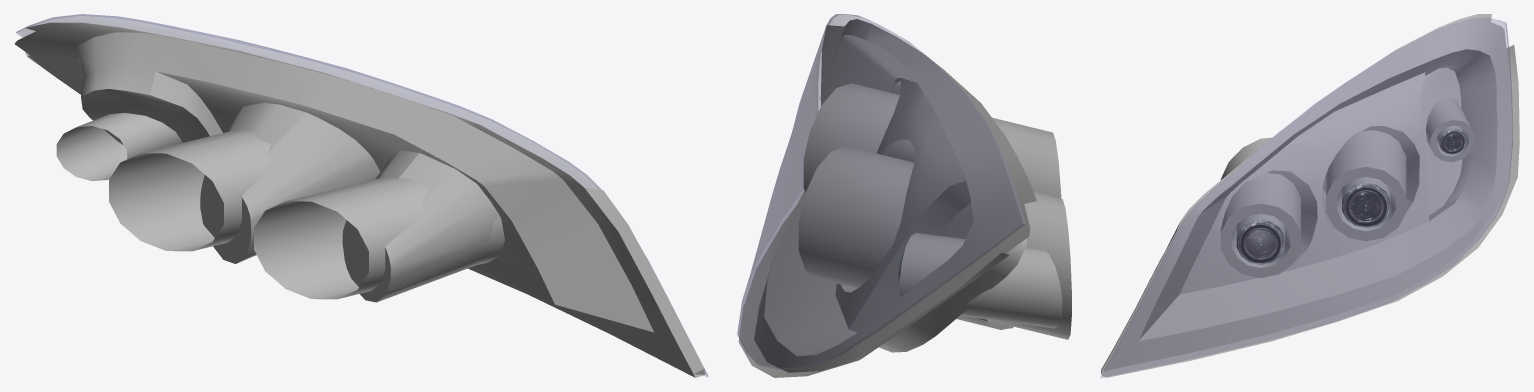
3 renders of one model, left to right at view 1: azimuth 30°, elevation 25°; view 2: azimuth 150°, elevation 25°; view 3: azimuth 270°, elevation 25°, orthographic. The views are drawn at different scales.
Parts seen in each view (by area): view 1: X3144_061B_L_X3144_061B_L_4_DaS, X3144_061B_L_X3144_061B_L_6_DTaSI; view 2: X3144_061B_L_X3144_061B_L_4_DaS, X3144_061B_L_X3144_061B_L_6_DTaSI; view 3: X3144_061B_L_X3144_061B_L_6_DTaSI, X3144_061B_L_X3144_061B_L_4_DaS, X3144_061B_L_X3144_061B_L_3_N, X3144_061B_L_1_N_X3144_061B_L, X3144_061B_L_X3144_061B_L_2_N.
Boxes of the visible parts, box(x1,y1,x2,y2) form: X3144_061B_L_X3144_061B_L_4_DaS: box(15, 22, 704, 377); X3144_061B_L_X3144_061B_L_6_DTaSI: box(16, 14, 708, 377); X3144_061B_L_X3144_061B_L_4_DaS: box(738, 19, 1071, 377); X3144_061B_L_X3144_061B_L_6_DTaSI: box(737, 14, 1025, 369); X3144_061B_L_X3144_061B_L_6_DTaSI: box(1100, 17, 1512, 377); X3144_061B_L_X3144_061B_L_4_DaS: box(1101, 14, 1519, 377); X3144_061B_L_X3144_061B_L_3_N: box(1236, 219, 1285, 264); X3144_061B_L_1_N_X3144_061B_L: box(1342, 183, 1390, 227); X3144_061B_L_X3144_061B_L_2_N: box(1439, 129, 1466, 154).
Size of the model in its own units: 40.46 by 25.54 by 44.57.
